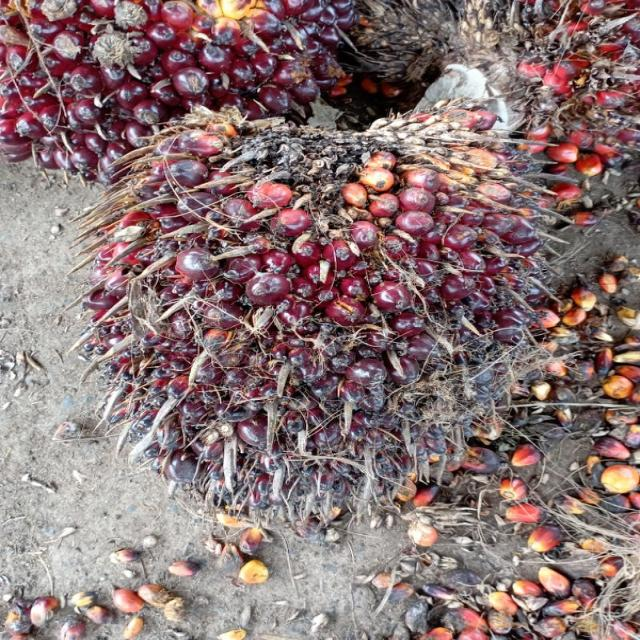fraksi 1: (53, 66, 578, 554)
